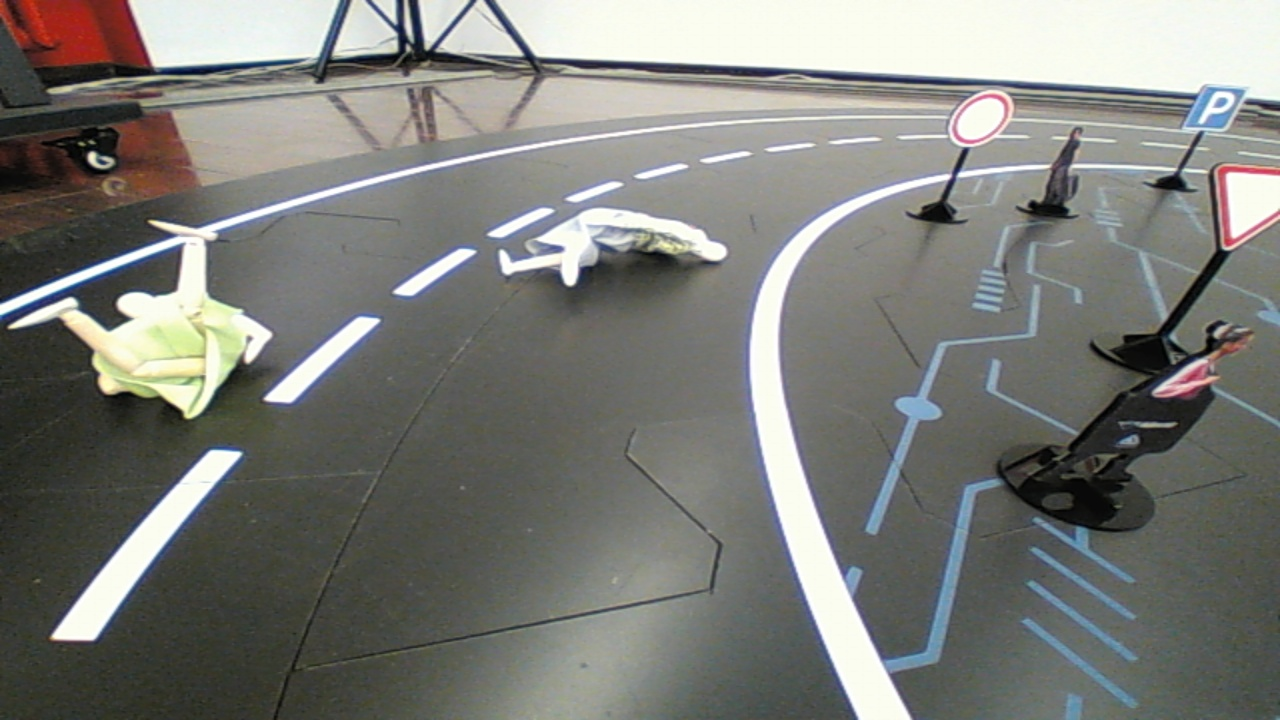Road works: (0, 202, 284, 436), (484, 188, 742, 300)
